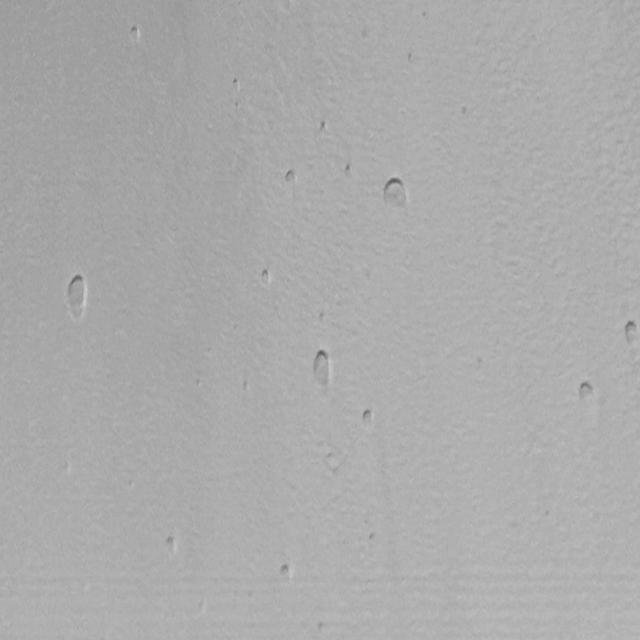pin holes: (60, 270, 92, 323), (379, 174, 412, 215), (307, 348, 335, 392), (576, 380, 600, 411), (621, 318, 640, 349), (161, 534, 183, 560), (276, 562, 298, 587), (125, 22, 146, 46), (322, 448, 342, 472), (361, 406, 379, 431), (258, 266, 275, 290), (283, 169, 301, 187), (316, 119, 331, 136), (342, 162, 356, 180), (230, 77, 242, 94), (319, 309, 326, 327), (460, 104, 469, 117), (369, 530, 378, 542), (243, 378, 250, 393), (406, 51, 414, 64), (317, 620, 325, 631)
